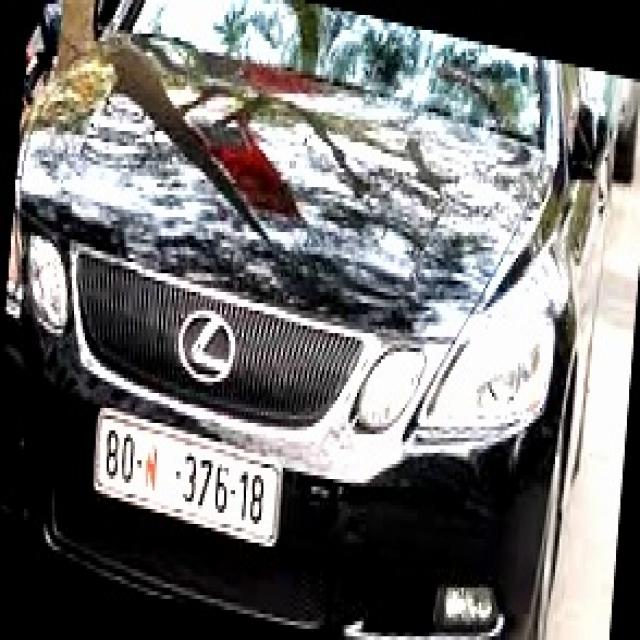bien_ngoai_giao: (92, 405, 279, 555)
